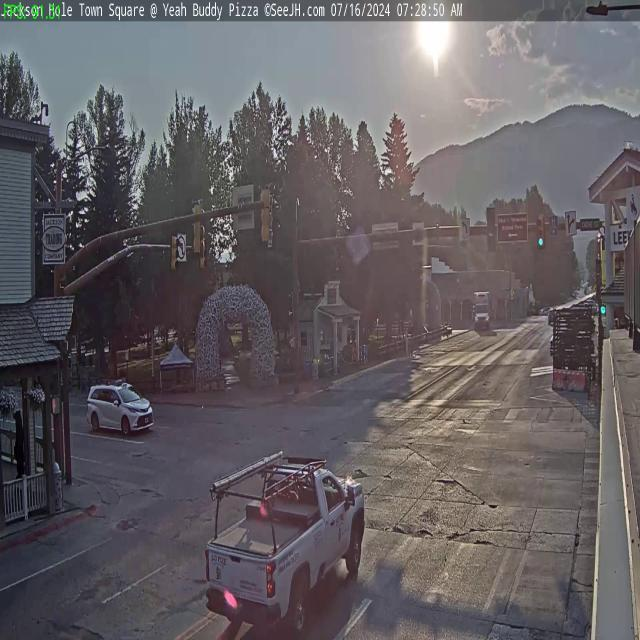pickup: (203, 456, 370, 640)
suv: (86, 377, 154, 438)
traffic light: (260, 184, 274, 244), (190, 199, 203, 256), (487, 206, 498, 253), (168, 231, 180, 273), (536, 214, 546, 248)
truck: (472, 284, 492, 338)
